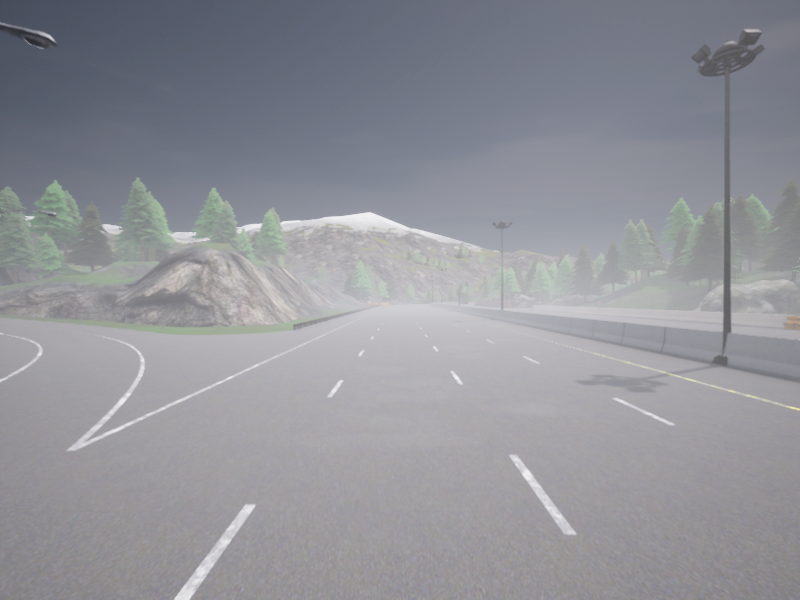vehicle: (464, 301, 468, 304), (461, 302, 463, 303)
